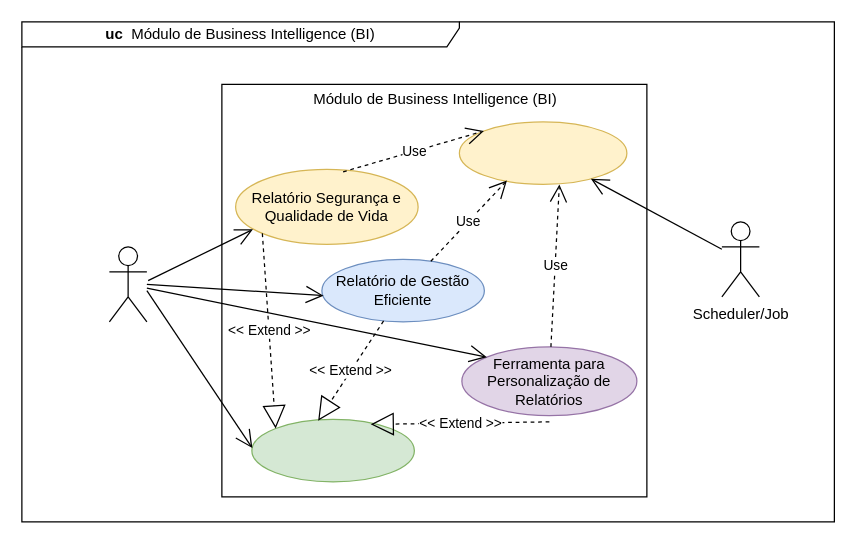
This 856x544 diagram has some shape labels left out. Each missing label, with the centre of its shape:
"ETL Dados sócio-econômicos/gestão" belongs at [542,152].
"Exportação de Relatórios" belongs at [332,450].
"Gestor" belongs at [127,284].
